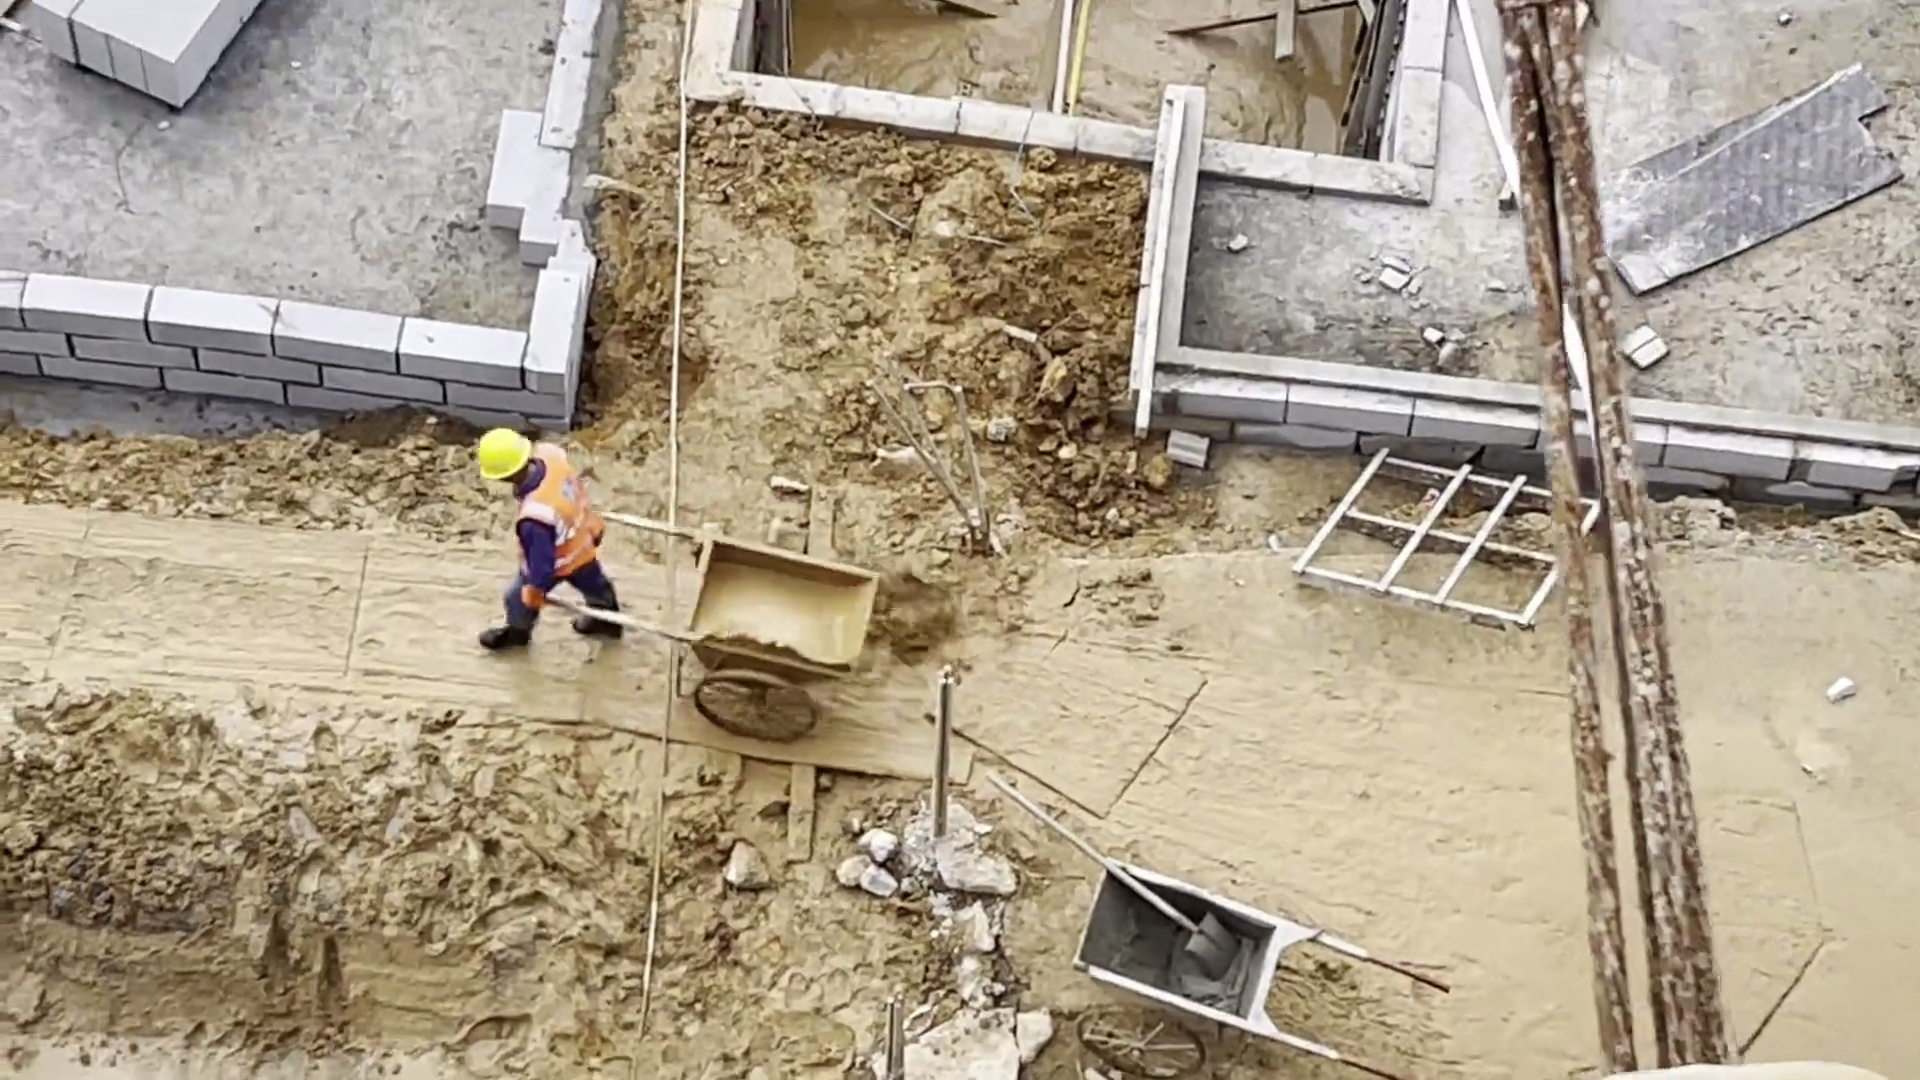brick: (38, 1, 268, 114)
handcart: (1069, 850, 1457, 1080), (549, 499, 877, 739)
helmet: (478, 423, 533, 482)
person: (469, 421, 635, 657)
vest: (513, 443, 609, 576)
